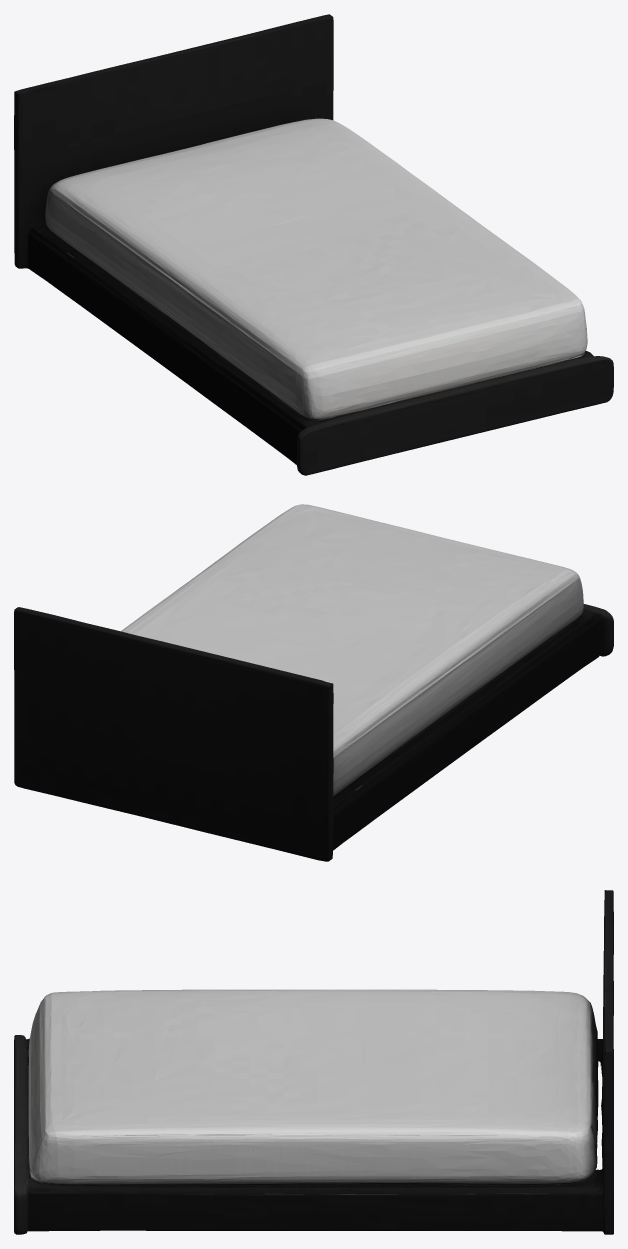
File: 1fae9178-41cf-47c8-9e4b-04631fcf70e0.glb
3 views of the same model, one above another, from view 1: azimuth 30°, elevation 25°; view 2: azimuth 150°, elevation 25°; view 3: azimuth 270°, elevation 25° (orthographic). The views are drawn at different scales.
Parts seen in each view (by area): view 1: world; view 2: world; view 3: world.
Part boxes in pixels (box(x1,y1,x2,y2)): world: box(14, 14, 613, 475); world: box(14, 504, 613, 861); world: box(14, 890, 613, 1234).
Bounding box in the file's own units: 0.6379 × 0.3559 × 1.
1 material, 1 textured.
